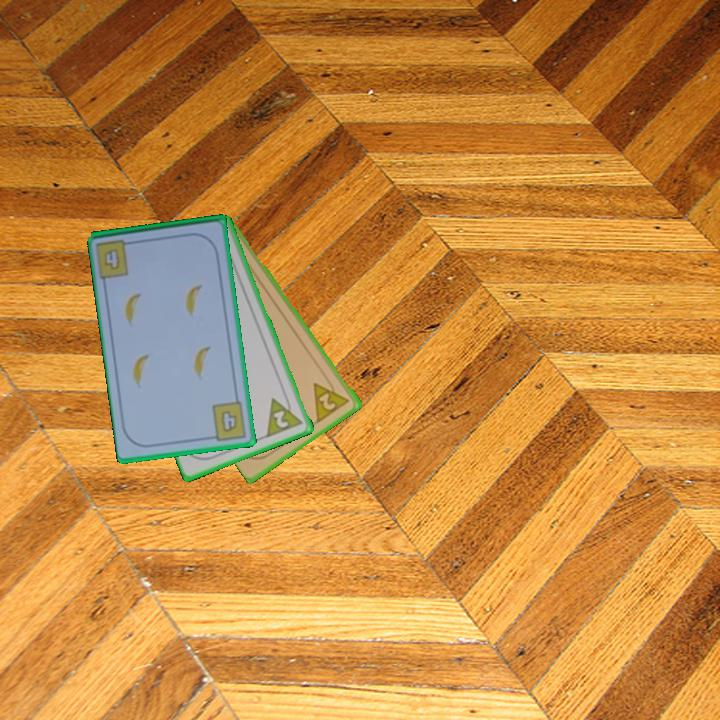2p: (310, 373, 354, 425), (263, 390, 306, 440)
4b: (206, 398, 250, 443), (100, 245, 123, 273)
